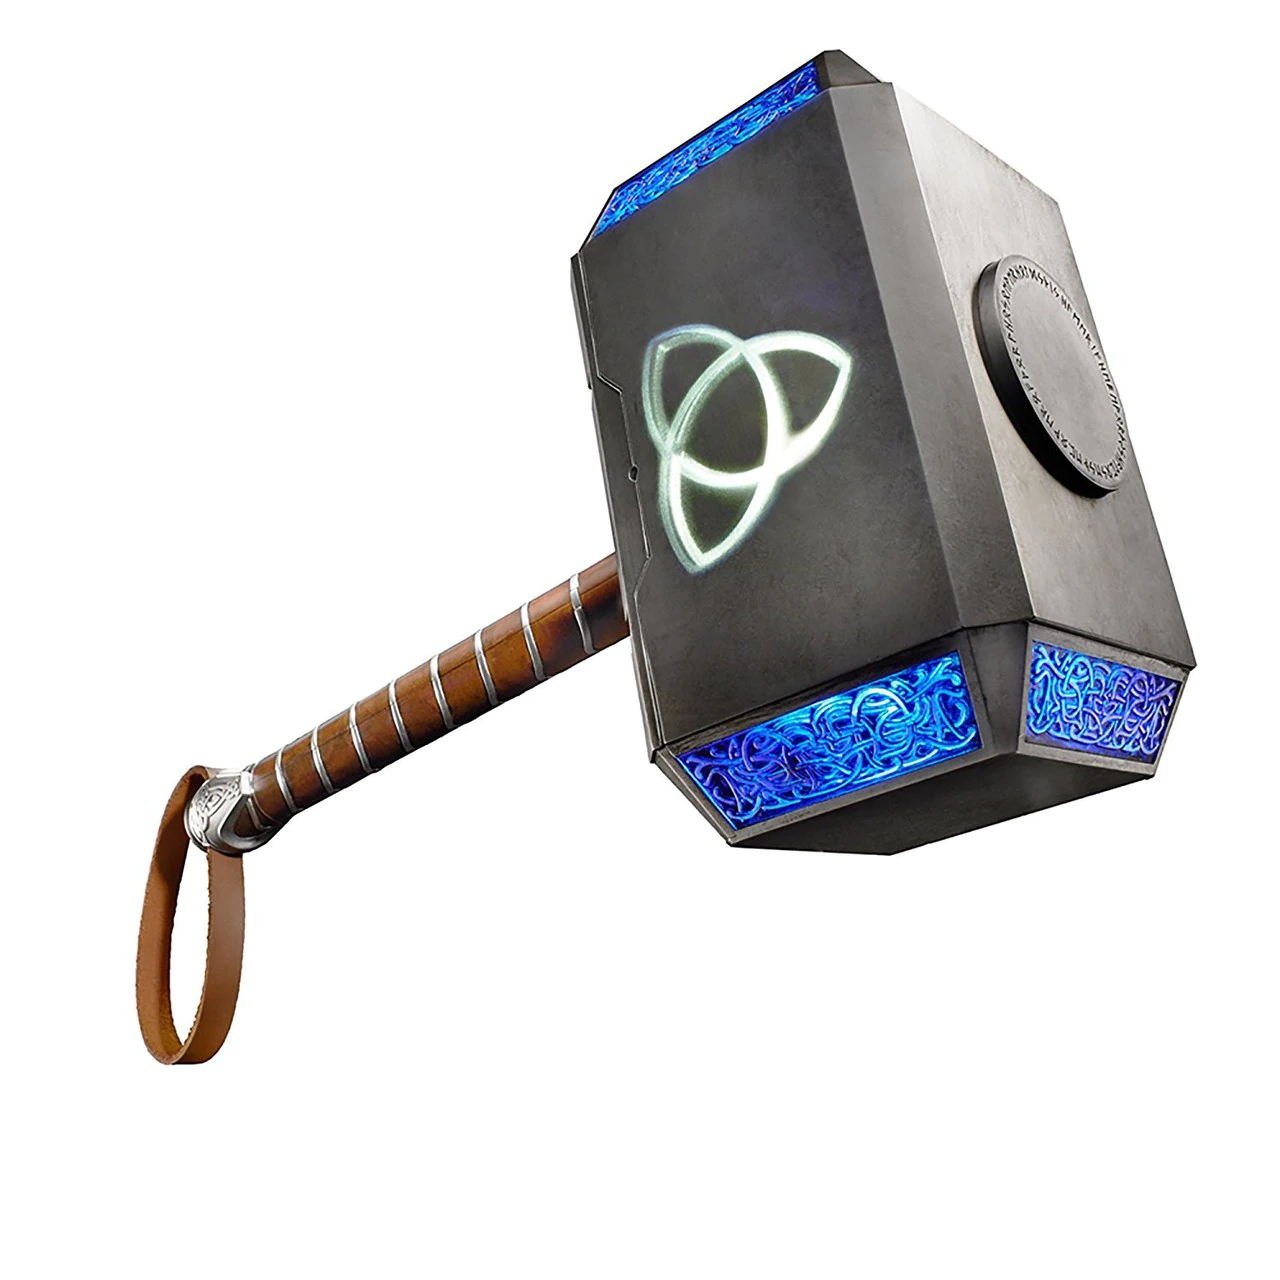THOR Hammer: (226, 60, 1190, 1000)
